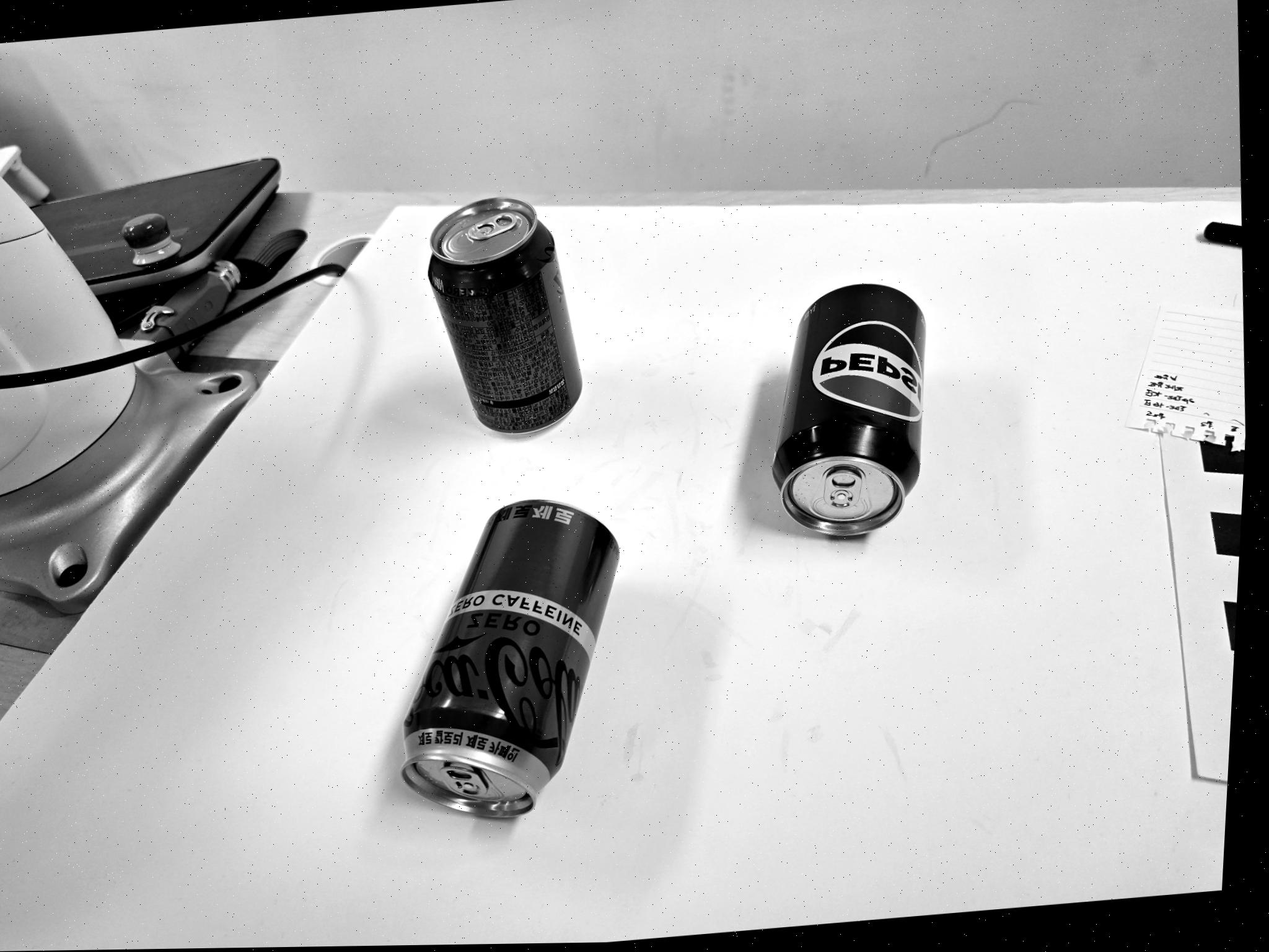can_coke_decaf: (399, 501, 621, 822)
can_coke_zero: (426, 194, 586, 433)
can_pepsi: (771, 285, 929, 539)
